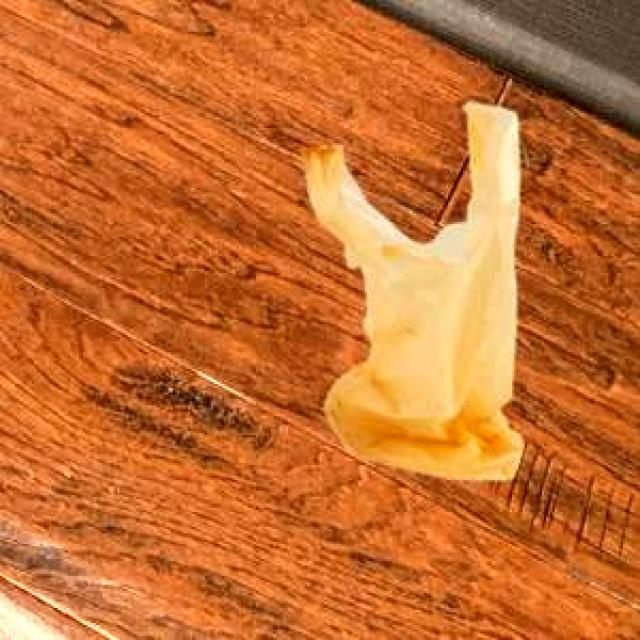Plastic_Bag: (298, 99, 520, 477)
